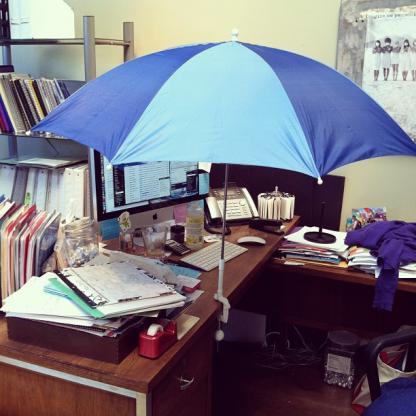handbag: (351, 340, 416, 415)
